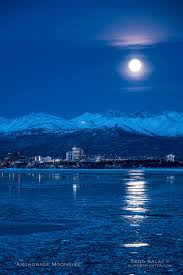moon: (128, 58, 142, 73)
